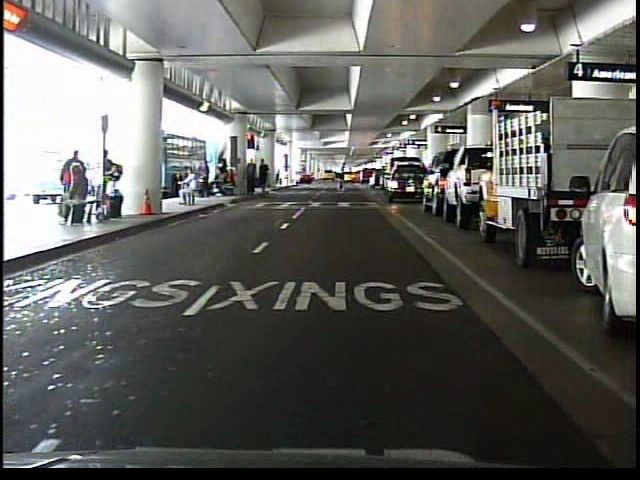person: (175, 170, 202, 209), (331, 160, 353, 193)
